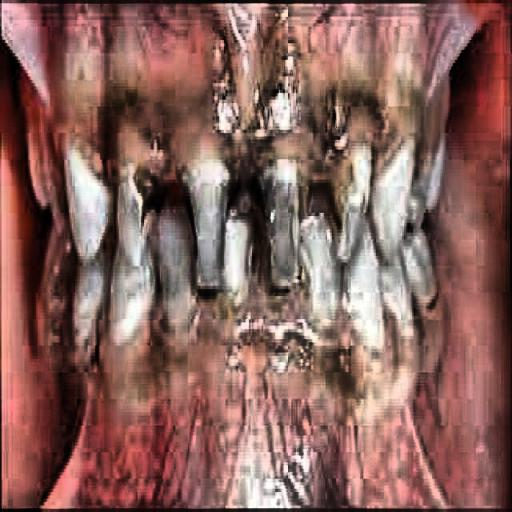Caries: (230, 139, 374, 274), (90, 141, 225, 266)
